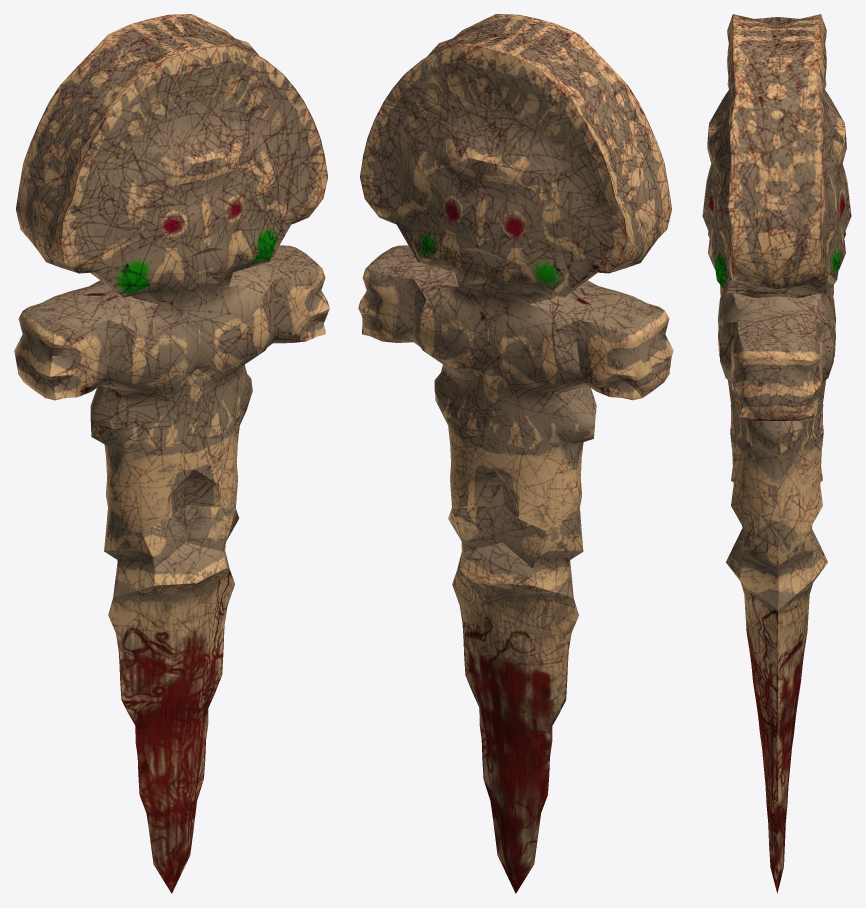
The model's file is daga_inca_low_poly.glb.
The picture shows the model from 3 angles, left to right: view 1: azimuth 30°, elevation 25°; view 2: azimuth 150°, elevation 25°; view 3: azimuth 270°, elevation 25°; orthographic projection.
Parts seen in each view (by area): view 1: Object_2; view 2: Object_2; view 3: Object_2.
Boxes of the visible parts, bbox=[...] form: Object_2: bbox=[14, 14, 329, 893]; Object_2: bbox=[358, 14, 673, 893]; Object_2: bbox=[702, 14, 851, 893].
Size of the model in its own units: 0.7058 by 1.99 by 0.311.
1 material, 1 textured.
